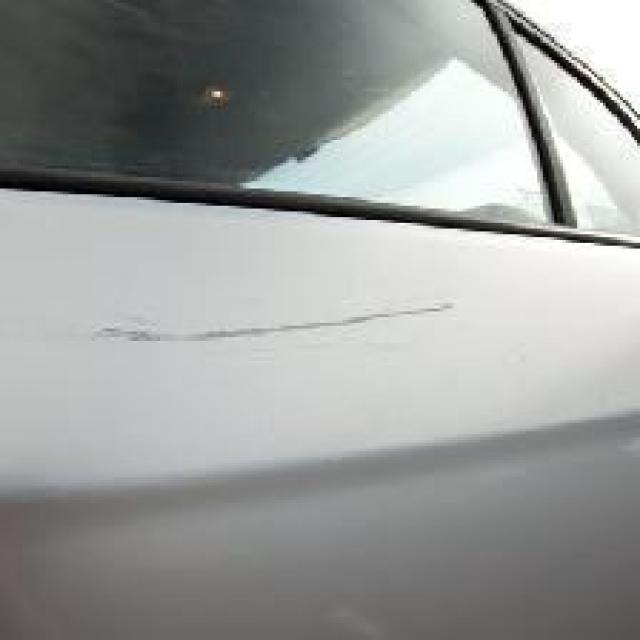damaged: (80, 300, 457, 349)
